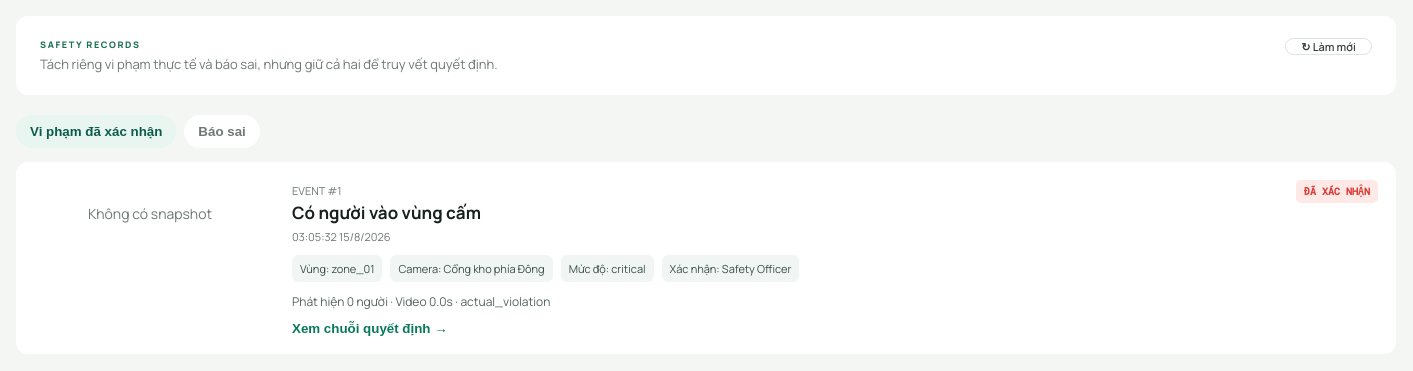
Test: EventLogPage audit filters › keeps false alarms in a separate audit filter
The image size is (1413, 371).
Click the tab "Báo sai" at (222, 132), box [184,115,260,148]
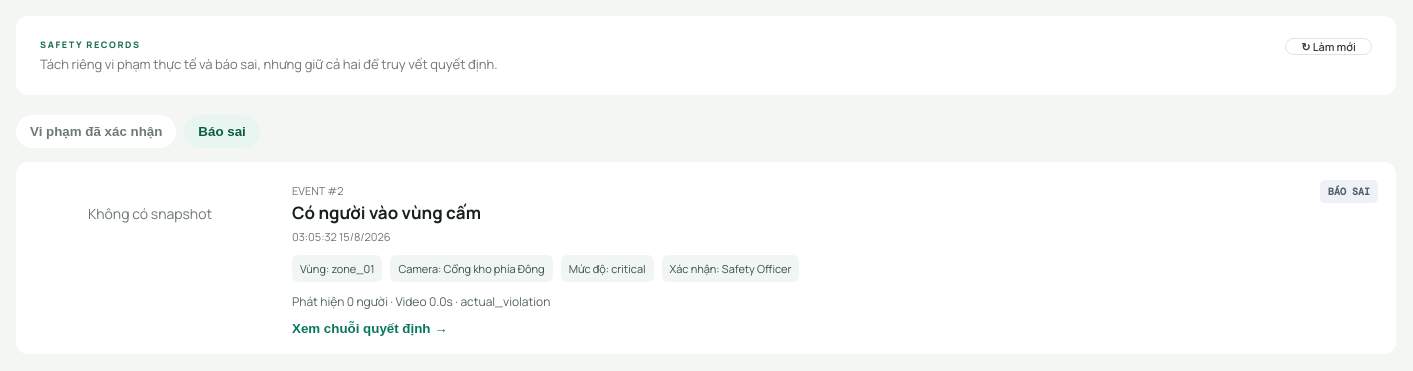
Expected: the text "BÁO SAI" is shown, [1320,180,1378,203]
